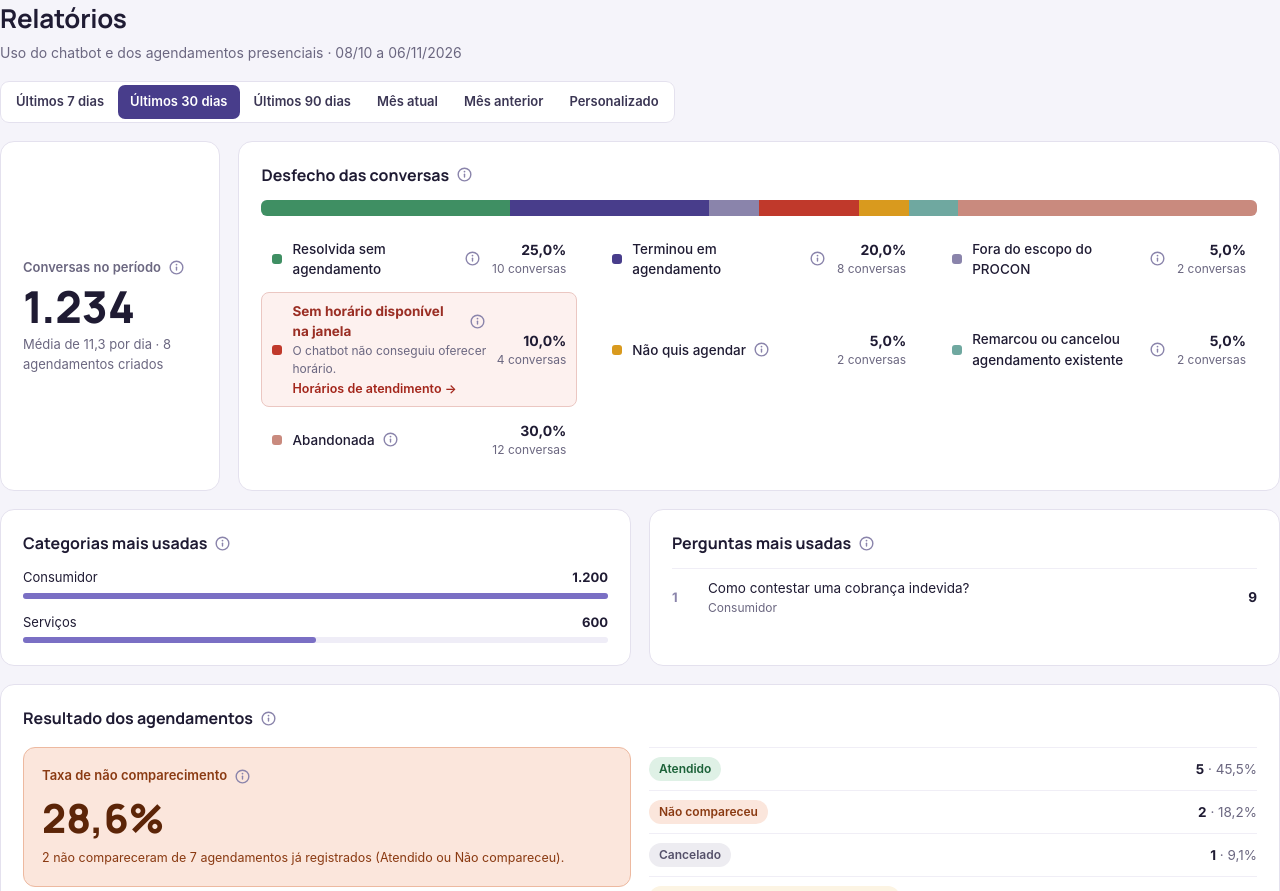
Test: Reports: estados › não mostra números antigos quando uma nova consulta falha
This screenshot has width=1280, height=891.
Expected: the heading "Desfecho das conversas" is shown, x1=262 y1=164 x2=474 y2=186
Click the button "Últimos 7 dias": (60, 102) x1=4 y1=85 x2=116 y2=118
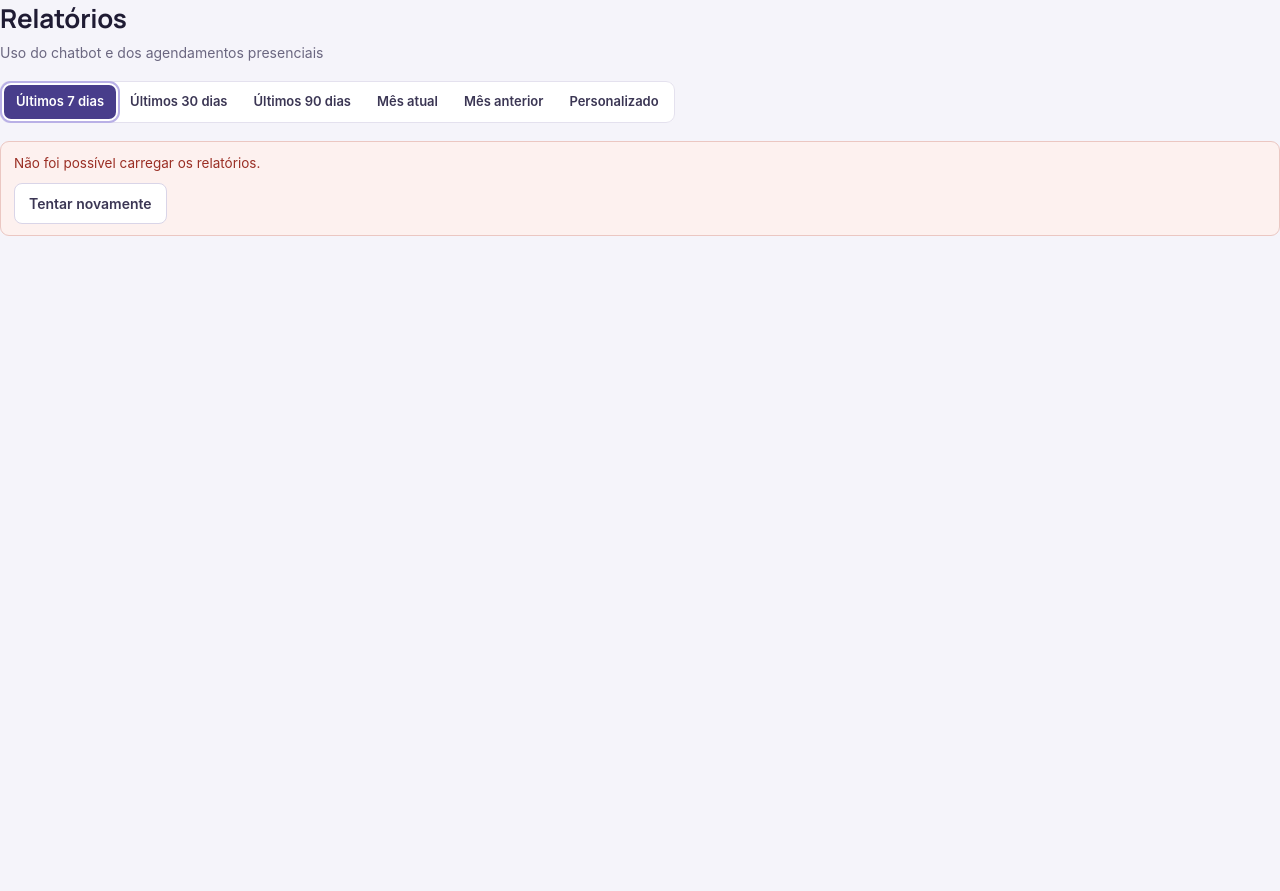
Now the message "Não foi possível carregar os relatórios." is shown, box x1=14 y1=152 x2=260 y2=173
Now the heading "Conversas no período" is gone
